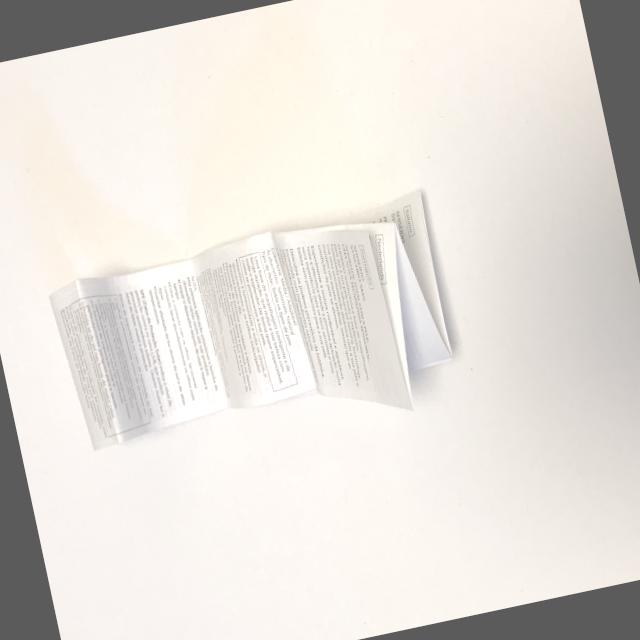Paper: (12, 146, 512, 512)
